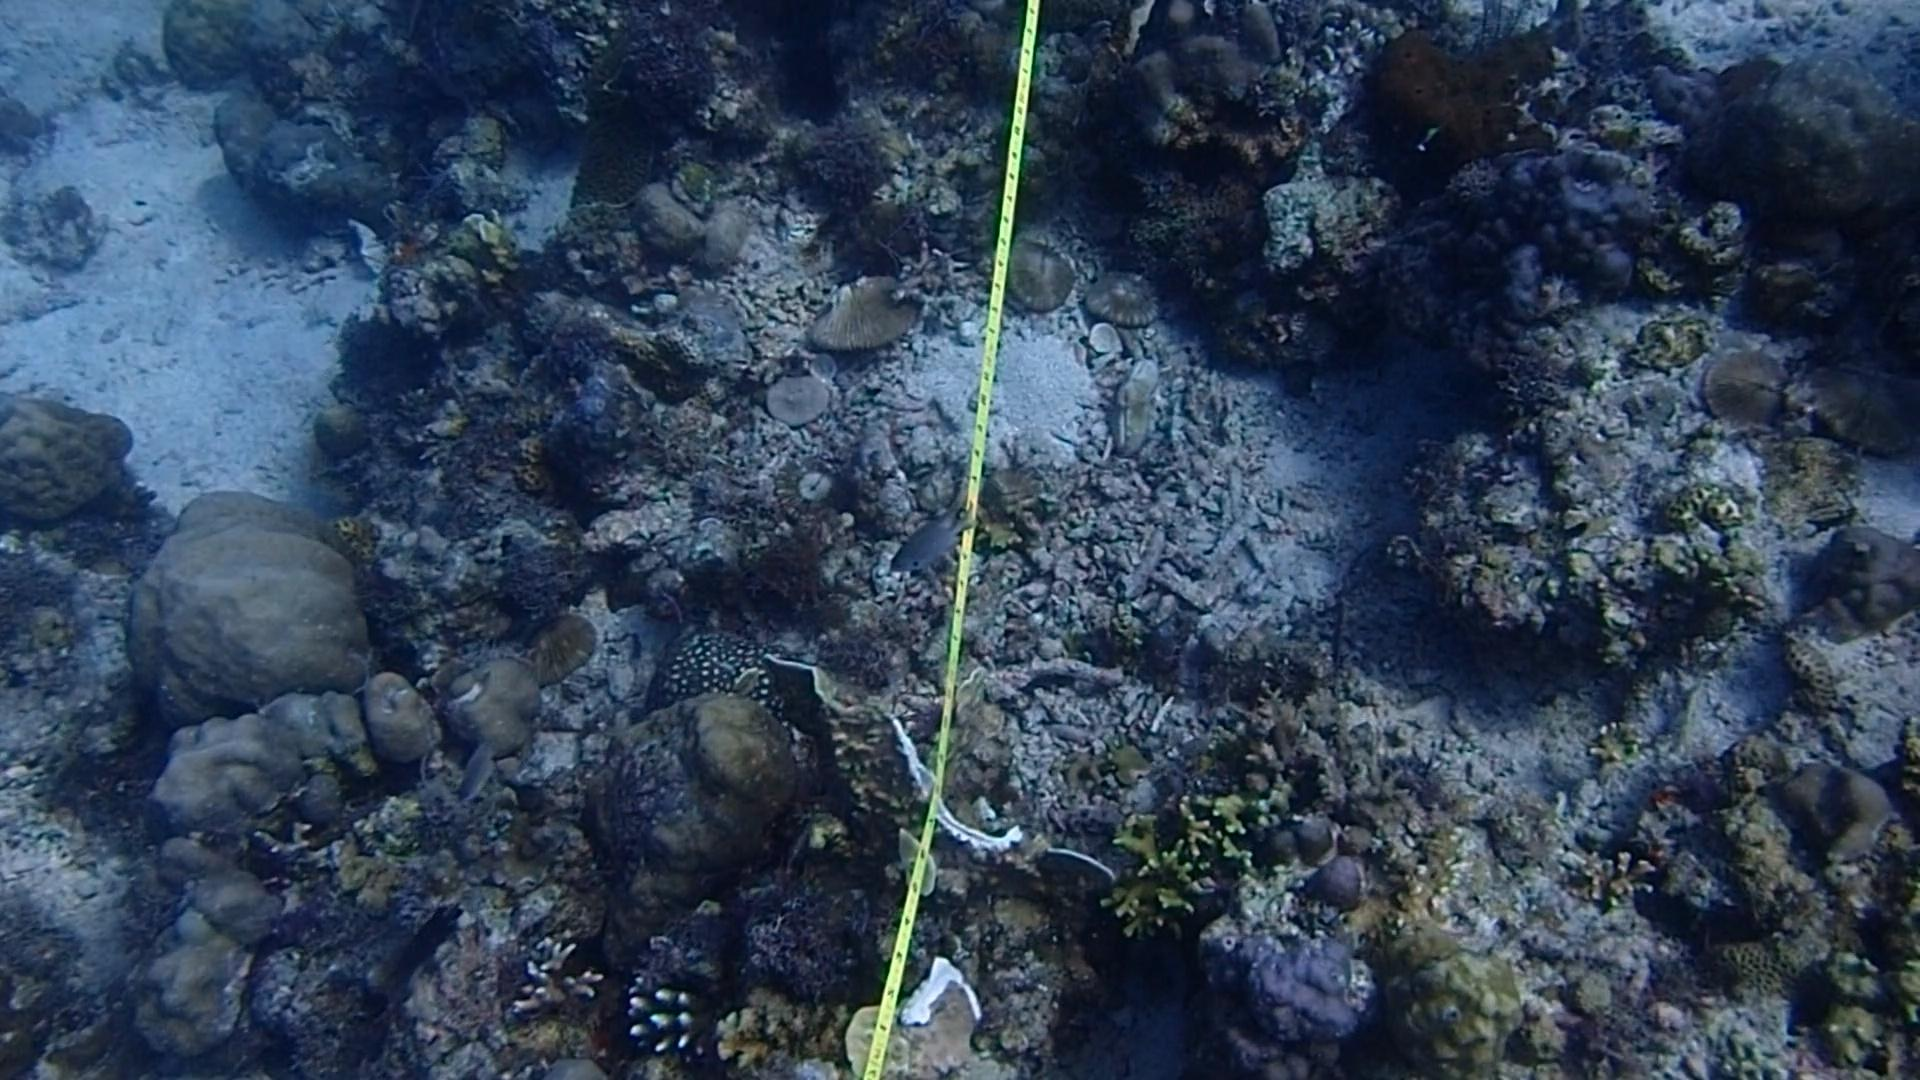Light Fish: (881, 501, 977, 596)
